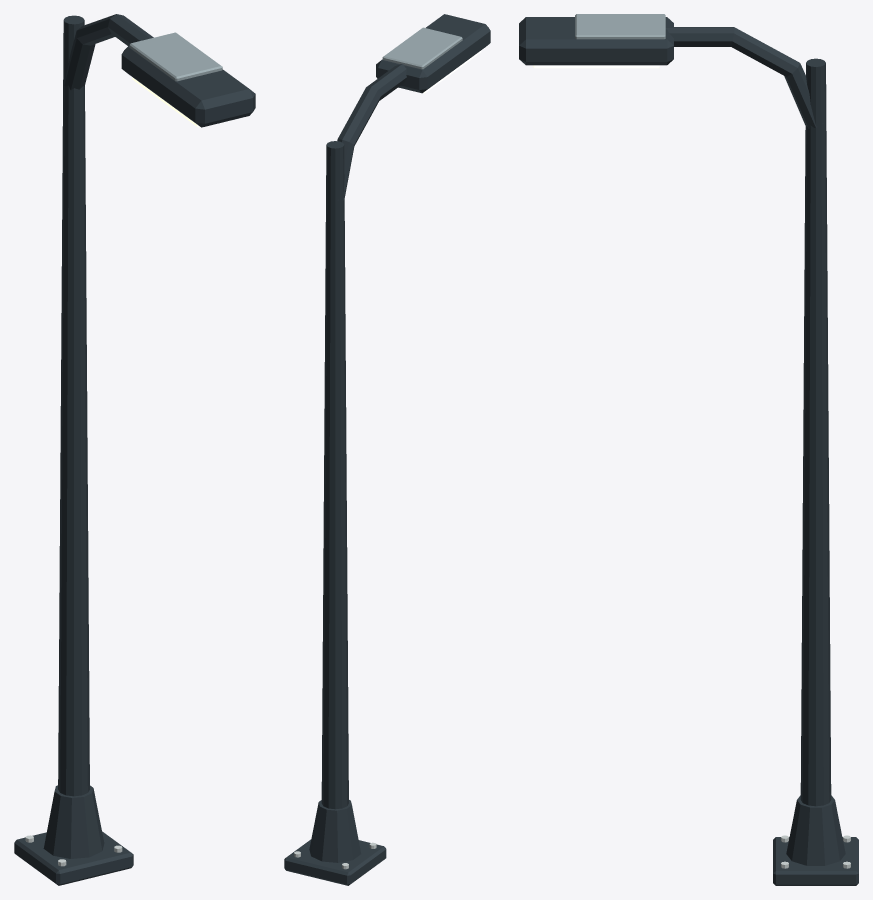
Rendered from Streetlight_Modern.glb.
The picture shows the model from 3 angles, left to right: view 1: azimuth 30°, elevation 25°; view 2: azimuth 150°, elevation 25°; view 3: azimuth 270°, elevation 25°; orthographic projection. The views are drawn at different scales.
Parts seen in each view (by area): view 1: Streetlight_Modern; view 2: Streetlight_Modern; view 3: Streetlight_Modern.
Part boxes in pixels (x1=…): Streetlight_Modern: x1=14, y1=14, x2=255, y2=885; Streetlight_Modern: x1=284, y1=14, x2=490, y2=885; Streetlight_Modern: x1=519, y1=14, x2=858, y2=885.
Bounding box in the file's own units: 0.36 × 3.91 × 1.43.
